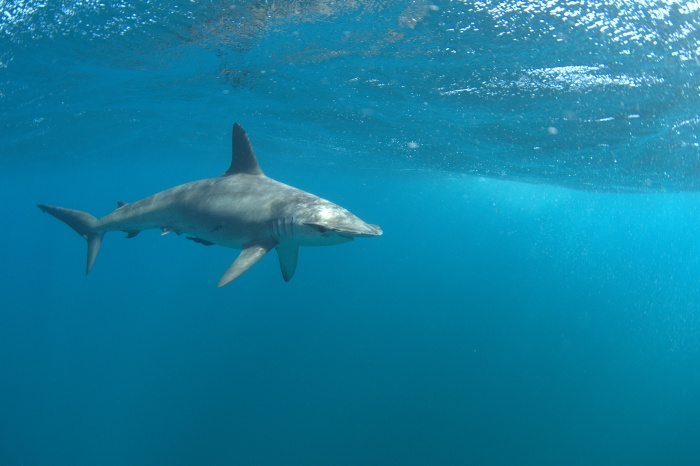Hammer: (1, 143, 523, 427), (28, 121, 394, 298)
